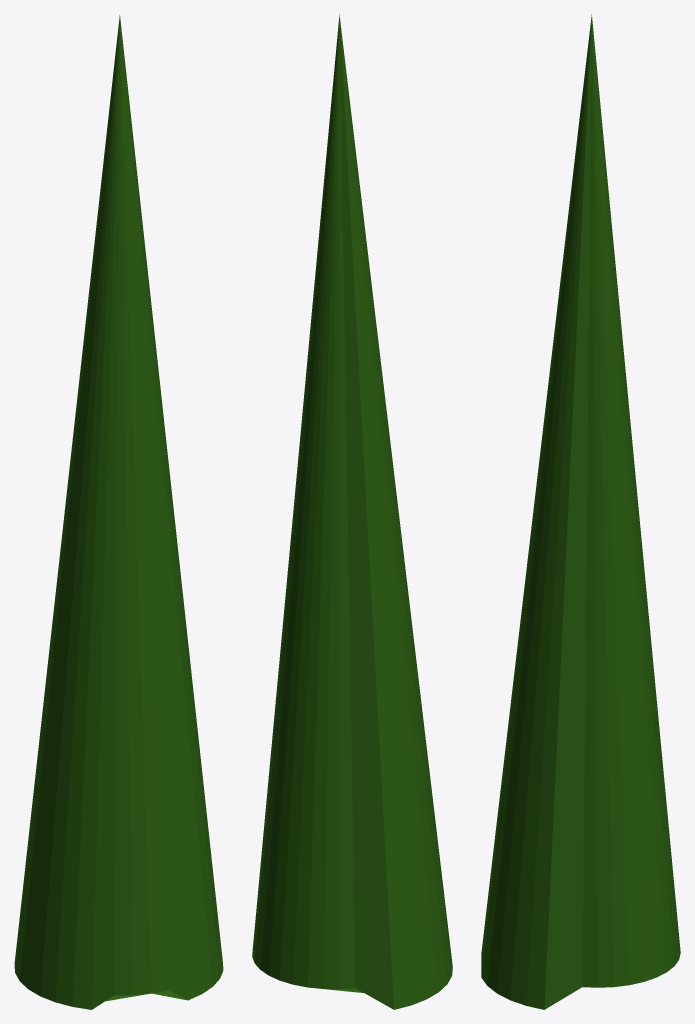
File: Plant1.glb
3 views of the same model, side by side, from view 1: azimuth 30°, elevation 25°; view 2: azimuth 150°, elevation 25°; view 3: azimuth 270°, elevation 25° (orthographic).
Visible parts, largest first — view 1: Cone; view 2: Cone; view 3: Cone.
Part boxes in pixels (<box>): Cone: <box>14,15,223,1009</box>; Cone: <box>252,14,452,1009</box>; Cone: <box>481,14,680,1009</box>.
Bounding box in the file's own units: 0.2874 × 1.49 × 0.2823.
